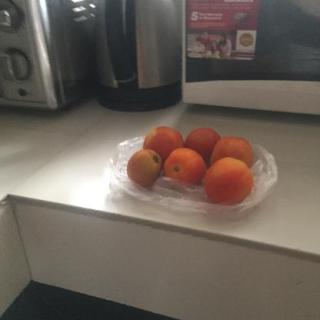Tomat: (128, 117, 272, 218)
